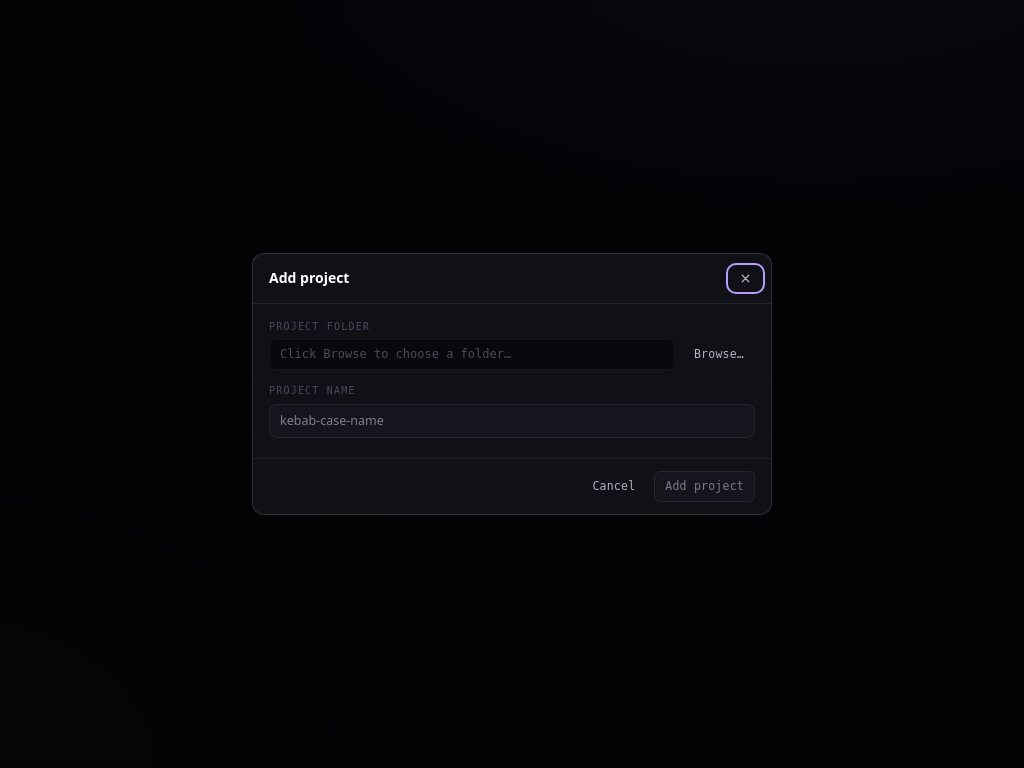
AddProjectSheet › derives slug from picked directory basename
Click the button "Browse…": x=719, y=355 x1=683 y1=339 x2=755 y2=370
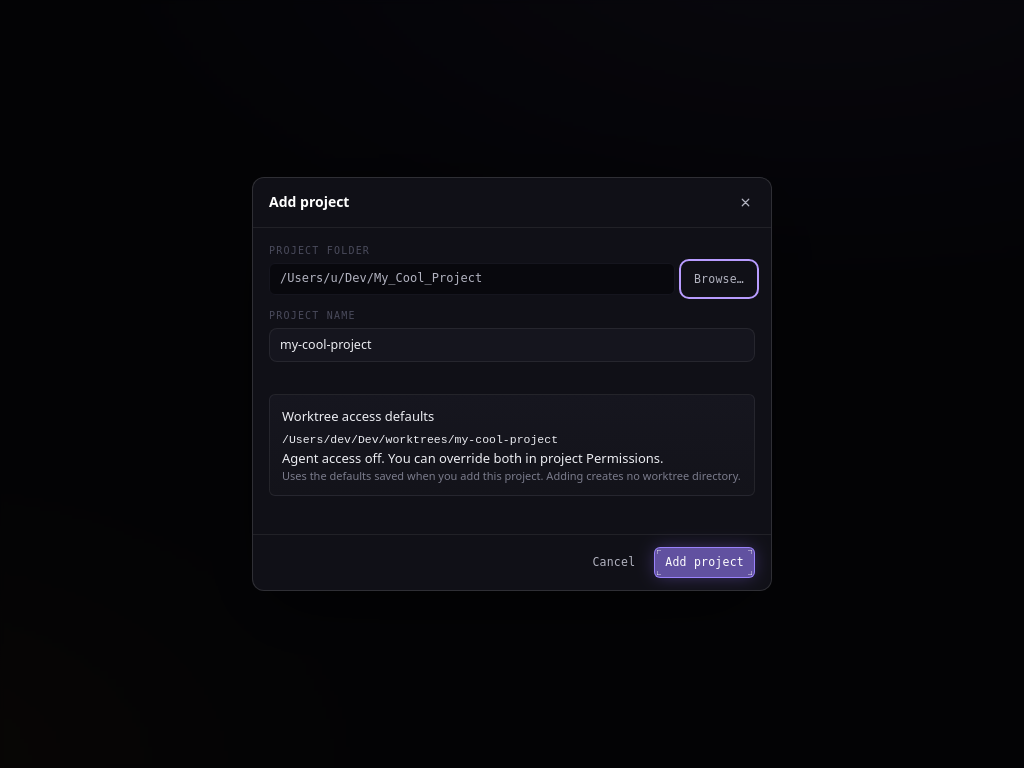
Now the field with placeholder "kebab-case-name" holds "my-cool-project", box x1=269 y1=328 x2=755 y2=362
